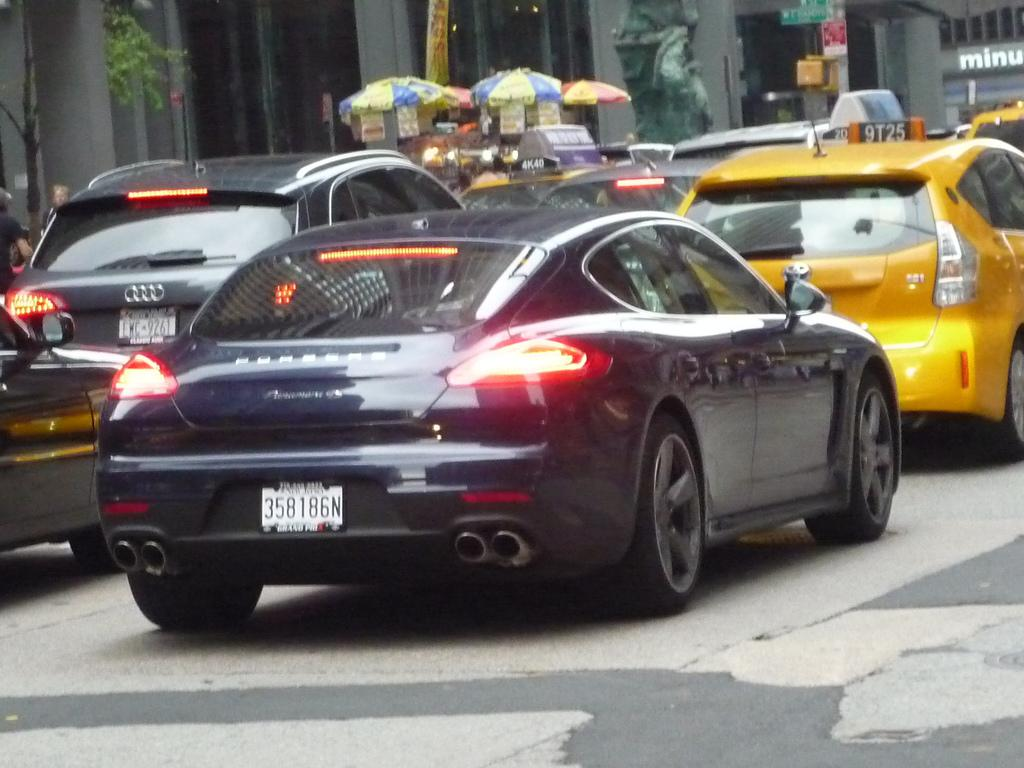taxi: (677, 119, 1024, 461)
